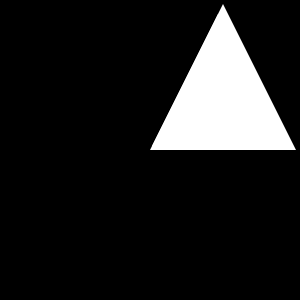triangle: (150, 4, 296, 150), (152, 14, 284, 146)
